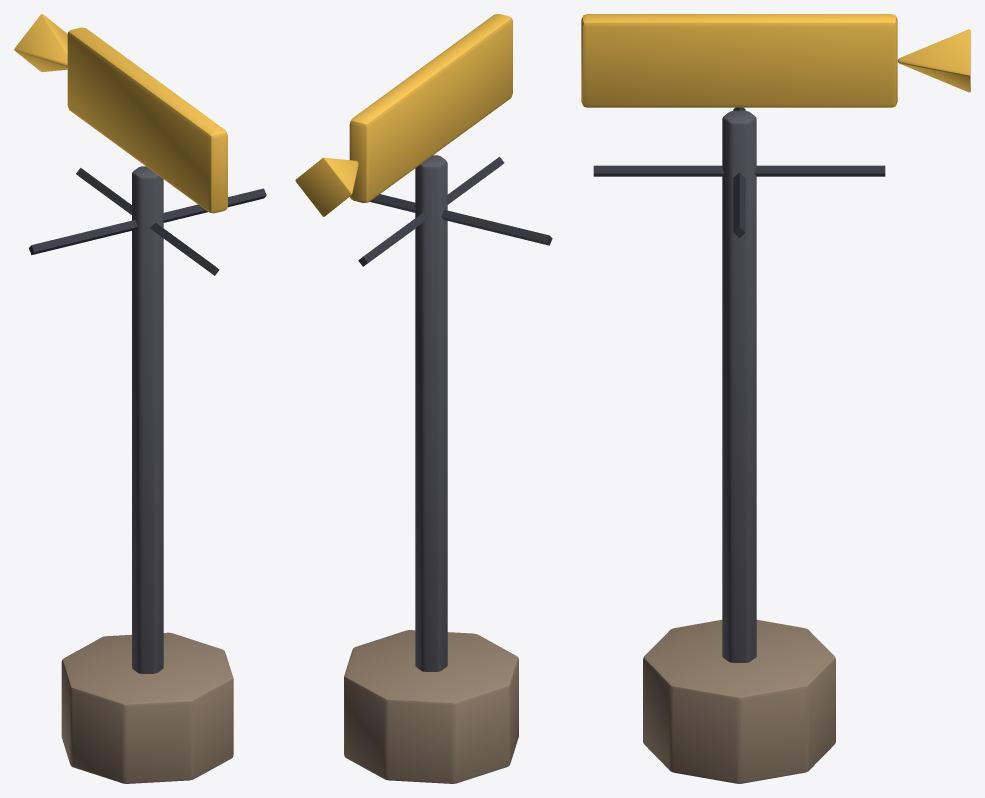
File: MidSky.fbx
3 renders of one model, left to right at view 1: azimuth 30°, elevation 25°; view 2: azimuth 150°, elevation 25°; view 3: azimuth 270°, elevation 25°, orthographic. The views are drawn at different scales.
Visible parts, largest first — view 1: MidSky; view 2: MidSky; view 3: MidSky.
Boxes of the visible parts, left/top/right/bottom form: MidSky: left=14, top=14, right=266, bottom=783; MidSky: left=295, top=14, right=552, bottom=783; MidSky: left=581, top=14, right=970, bottom=783.
Bounding box in the file's own units: 240 × 660 × 320.
